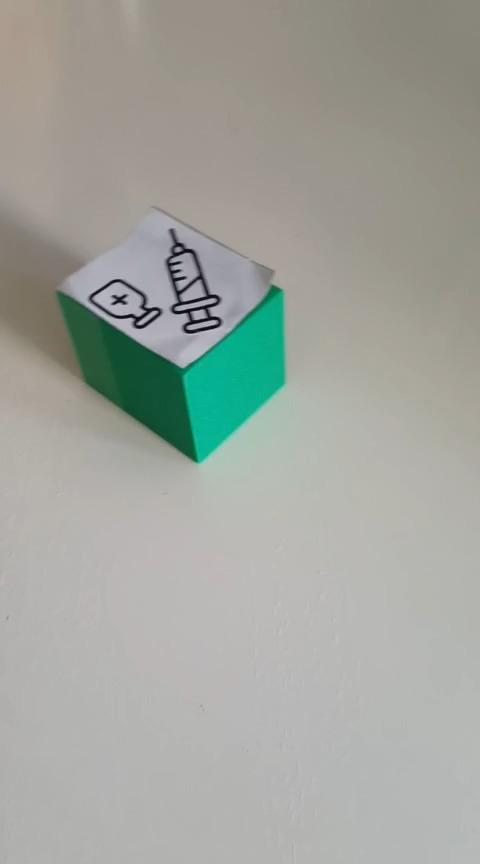antiseptic cream: (53, 203, 287, 464)
